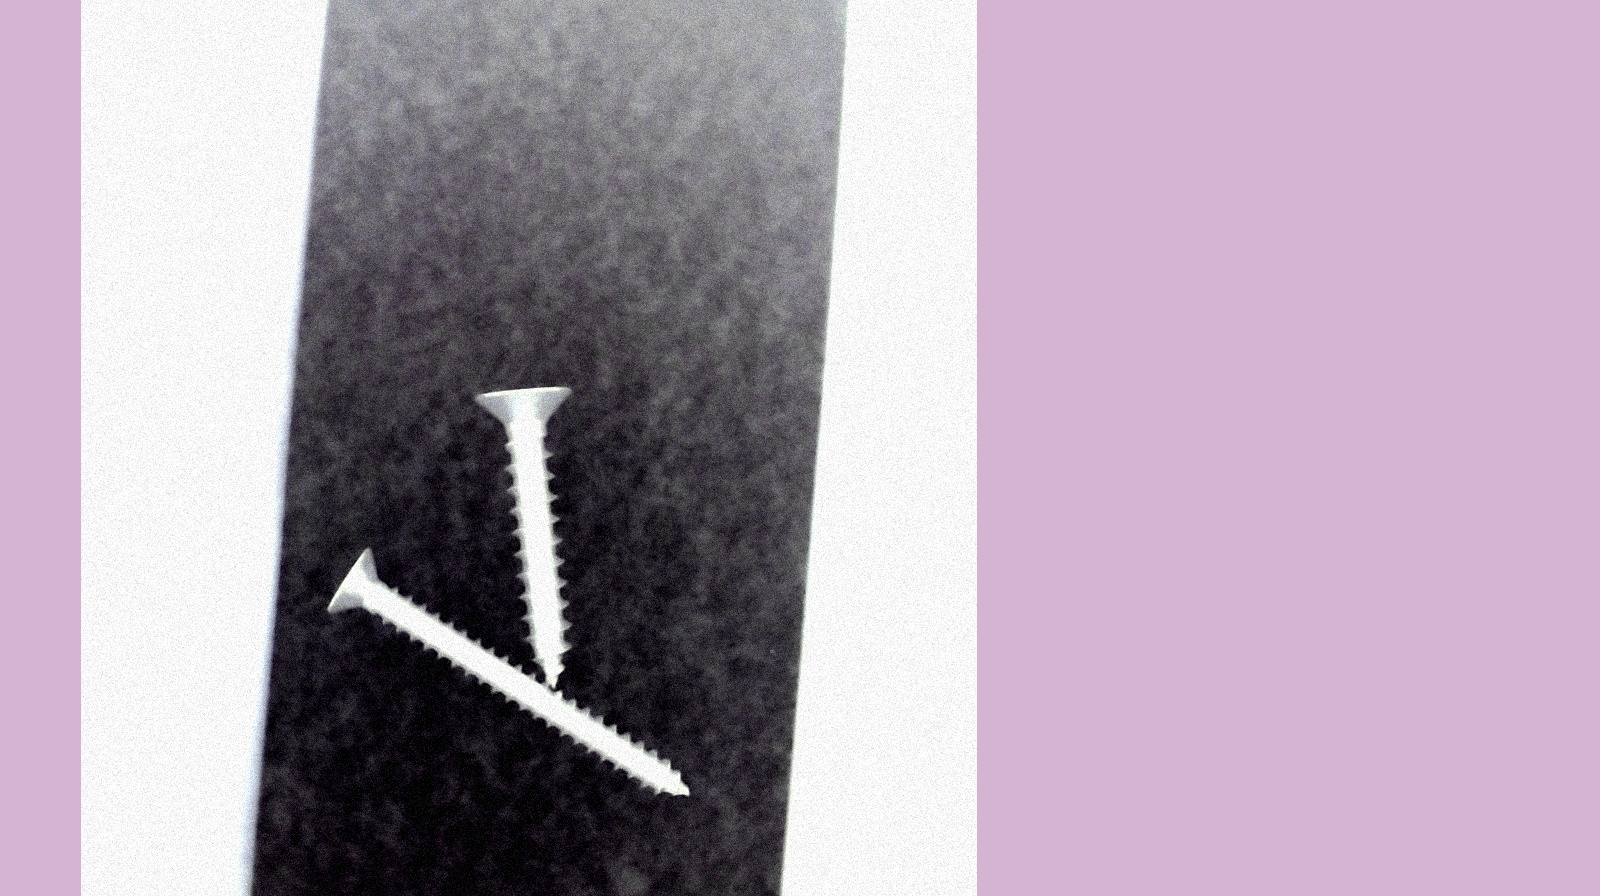S001: (473, 374, 584, 683)
S002: (325, 542, 697, 805)
